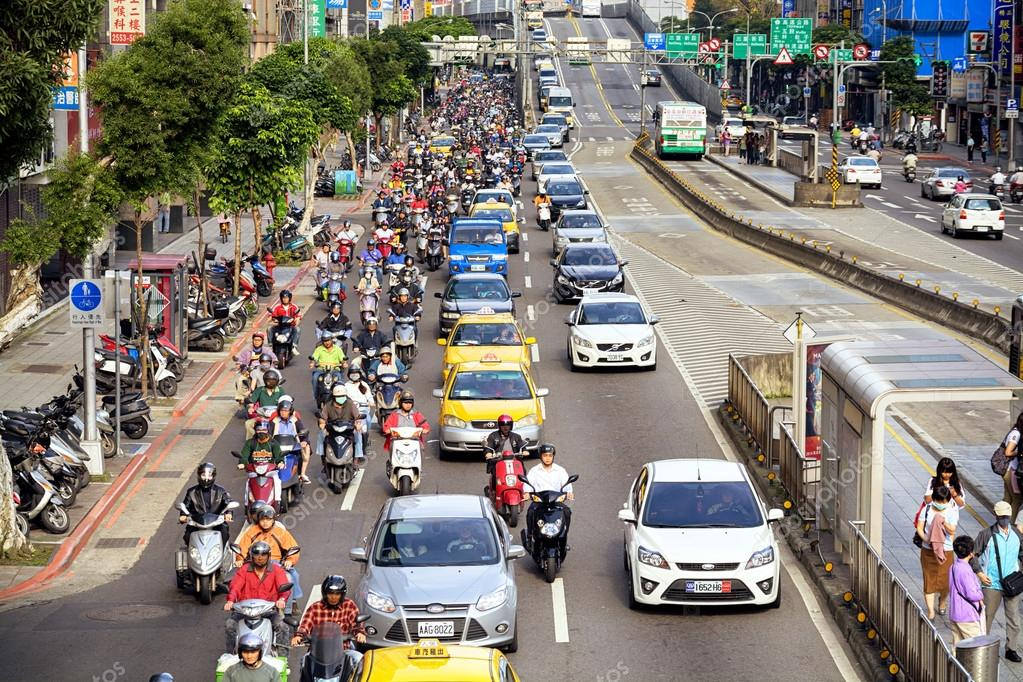Bus: (655, 100, 706, 159)
Car: (617, 456, 785, 617), (354, 491, 518, 653), (435, 359, 543, 453), (567, 292, 657, 373), (441, 313, 533, 371), (437, 273, 517, 331), (553, 242, 626, 297), (447, 213, 510, 276), (940, 193, 1006, 238), (550, 208, 609, 252), (468, 201, 520, 248), (540, 176, 587, 216), (919, 167, 974, 200), (835, 155, 883, 189)
Motorcycle: (518, 444, 578, 579), (175, 460, 233, 599), (233, 507, 301, 625), (223, 541, 290, 657), (294, 573, 363, 682), (479, 413, 530, 525), (381, 389, 430, 495), (265, 394, 312, 504), (317, 386, 362, 493), (236, 420, 282, 513), (215, 633, 291, 682), (231, 331, 275, 410), (307, 332, 348, 400), (265, 289, 301, 363), (387, 288, 420, 365), (369, 346, 407, 410), (337, 364, 374, 428), (244, 369, 285, 420), (315, 299, 349, 352), (355, 317, 387, 373), (355, 266, 381, 323), (321, 252, 347, 304), (333, 219, 359, 271), (359, 239, 383, 284), (399, 254, 423, 296), (387, 243, 408, 289), (532, 188, 552, 230), (372, 220, 393, 258), (898, 148, 919, 182), (987, 165, 1006, 199), (1011, 167, 1023, 203), (849, 124, 861, 147), (858, 126, 867, 150), (866, 123, 875, 143)
